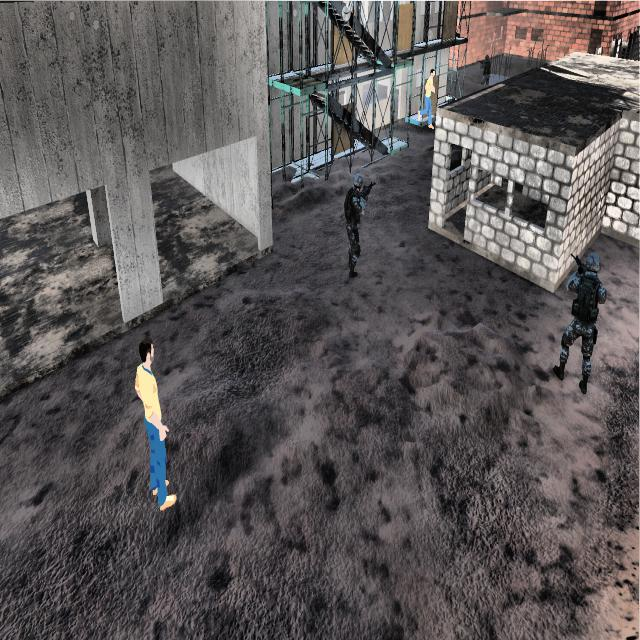bad: (556, 234, 606, 405), (341, 167, 375, 283), (477, 46, 495, 95)
good: (127, 318, 187, 526), (416, 56, 440, 140)
